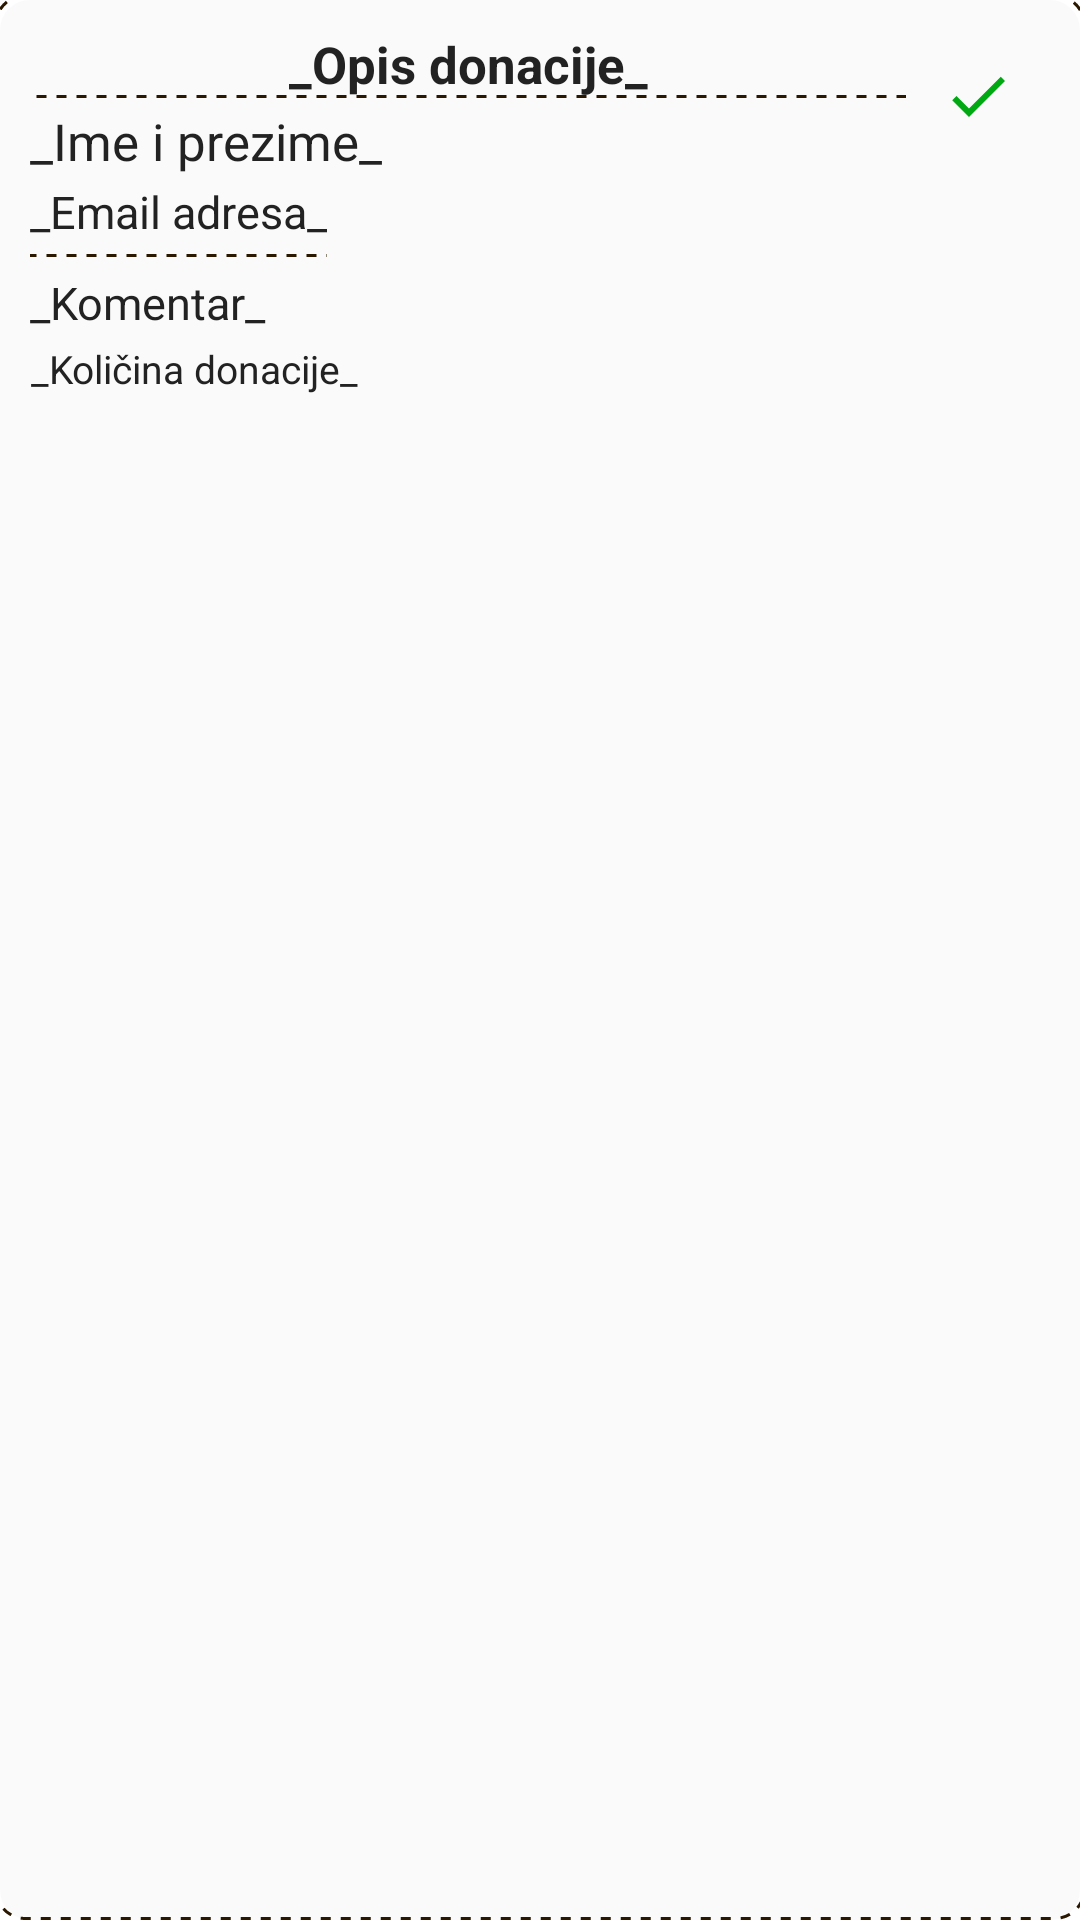

Icon bounding boxes for this 1080×1920 phone screenshot, format (x1,y1,x2,y2):
check: (952,77,1005,117)
